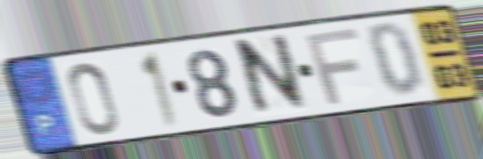0: (367, 19, 426, 100), (66, 59, 122, 137)
1: (139, 47, 181, 131)
8: (185, 47, 240, 120)
F: (302, 26, 362, 107)
N: (235, 30, 310, 121)
